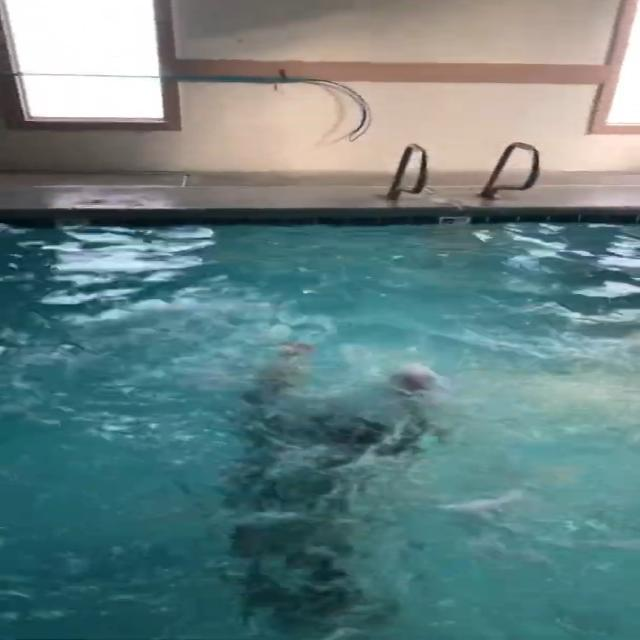Drowning: (255, 334, 433, 614)
